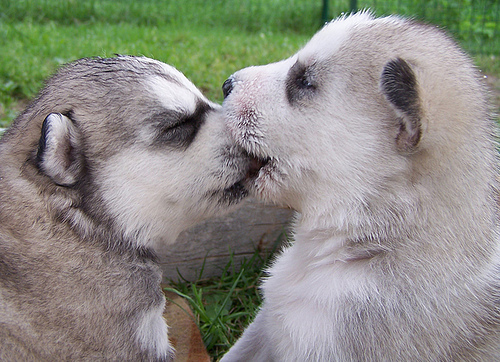dog: (219, 9, 499, 361), (0, 51, 266, 361)
